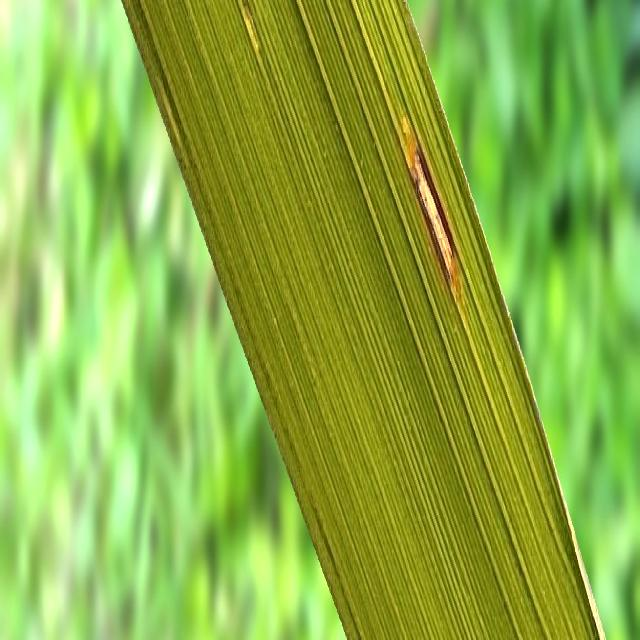LEAF BLAST: (402, 123, 460, 297)
